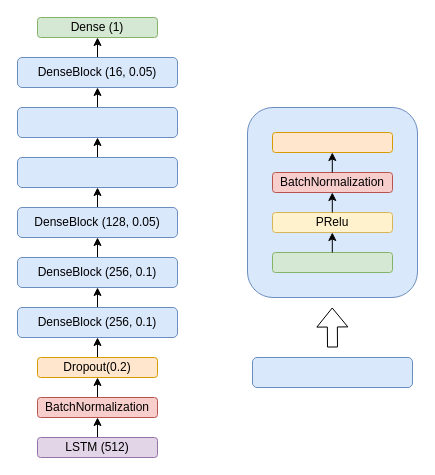
This 435x475 diagram has some shape labels left out. The shapes that lost their labels are listed below. From the top down, each one's centre as x and y in pixels, then its label:
At point 97,122: "DenseBlock (32, 0.05)".
At point 332,142: "Dropout (proba)".
At point 97,172: "DenseBlock (64, 0.05)".
At point 332,262: "Dense (units)".
At point 332,372: "DenseBlock (units, proba)".
